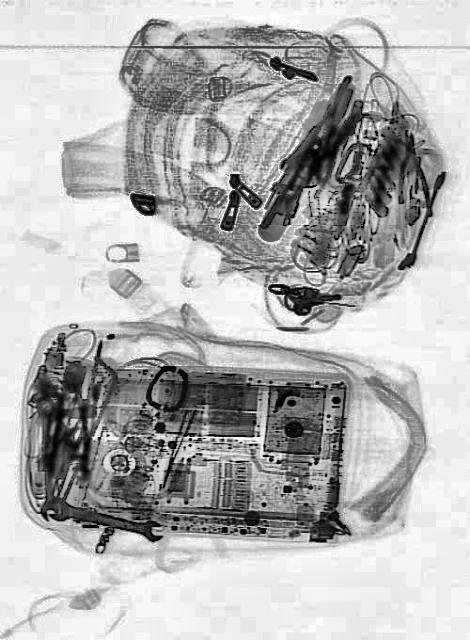Wrench: (48, 496, 164, 544), (35, 396, 59, 520)
